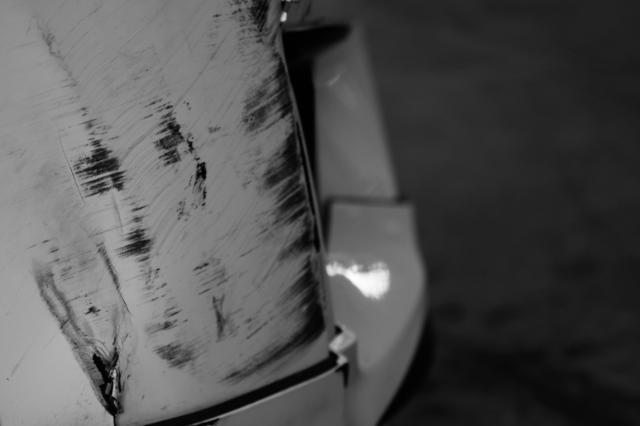Fender: (0, 0, 340, 378)
